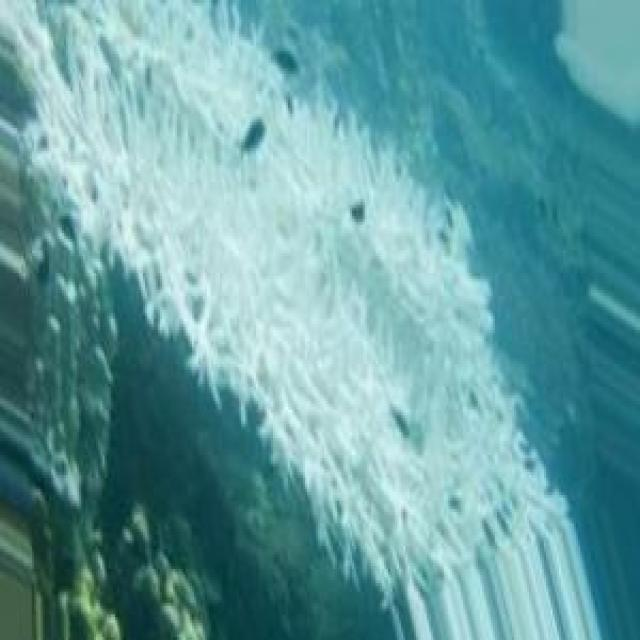Bleached: (2, 4, 599, 639)
